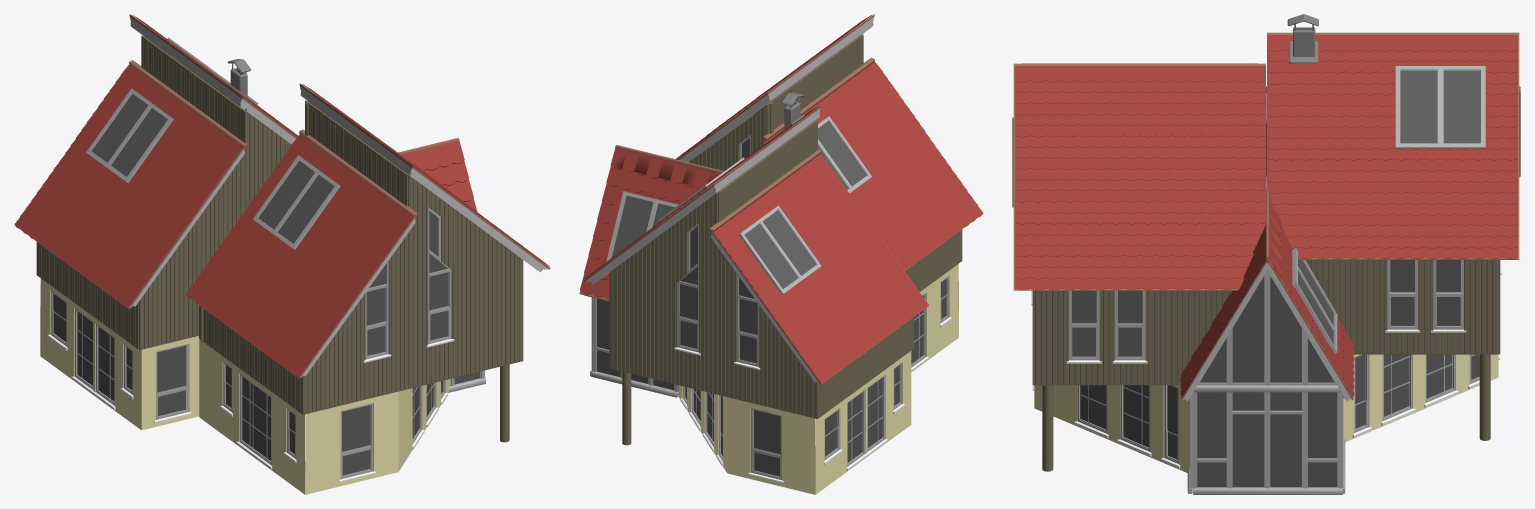
File: 2-floor-house.fbx
3 views of the same model, side by side, from view 1: azimuth 30°, elevation 25°; view 2: azimuth 150°, elevation 25°; view 3: azimuth 270°, elevation 25° (orthographic). The views are drawn at different scales.
Visible parts, largest first — view 1: build47; view 2: build47; view 3: build47.
Part boxes in pixels (left/top/right/bottom): build47: left=14, top=14, right=550, bottom=494; build47: left=579, top=14, right=983, bottom=494; build47: left=1012, top=14, right=1520, bottom=494.
Size of the model in its own units: 370 by 355 by 441.
